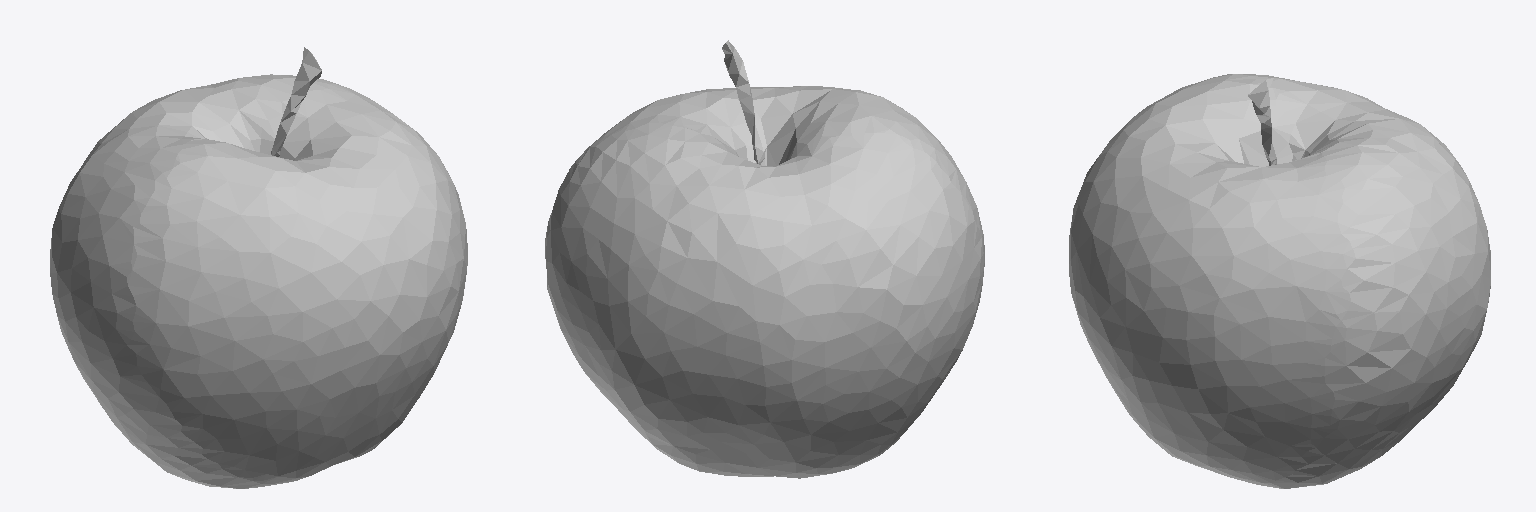
Rendered from apple.obj.
3 views of the same model, side by side, from view 1: azimuth 30°, elevation 25°; view 2: azimuth 150°, elevation 25°; view 3: azimuth 270°, elevation 25° (orthographic).
Visible parts, largest first — view 1: Apple; view 2: Apple; view 3: Apple.
Part boxes in pixels (left/top/right/bottom): Apple: left=50, top=47, right=467, bottom=488; Apple: left=545, top=40, right=984, bottom=478; Apple: left=1069, top=74, right=1490, bottom=488.
Size of the model in its own units: 1.33 by 1.39 by 1.33.